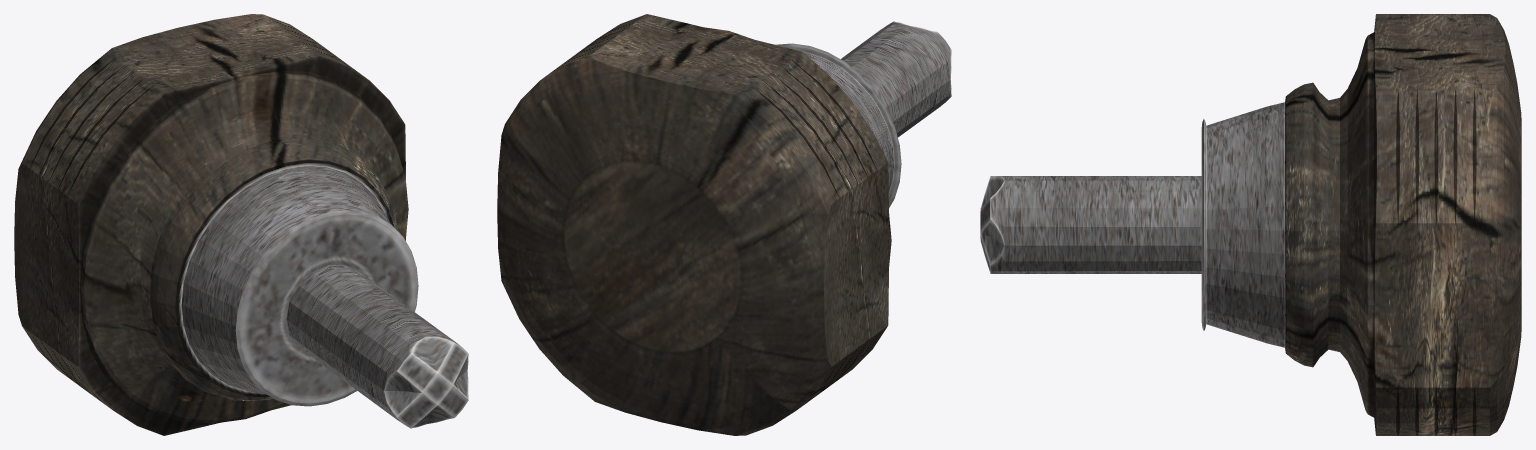
The model's file is workshop_hex_bolt.obj.
3 views of the same model, side by side, from view 1: azimuth 30°, elevation 25°; view 2: azimuth 150°, elevation 25°; view 3: azimuth 270°, elevation 25° (orthographic).
Bounding box in the file's own units: 0.0352 × 0.0352 × 0.05.
Materials: 1 (1 with a texture image).
